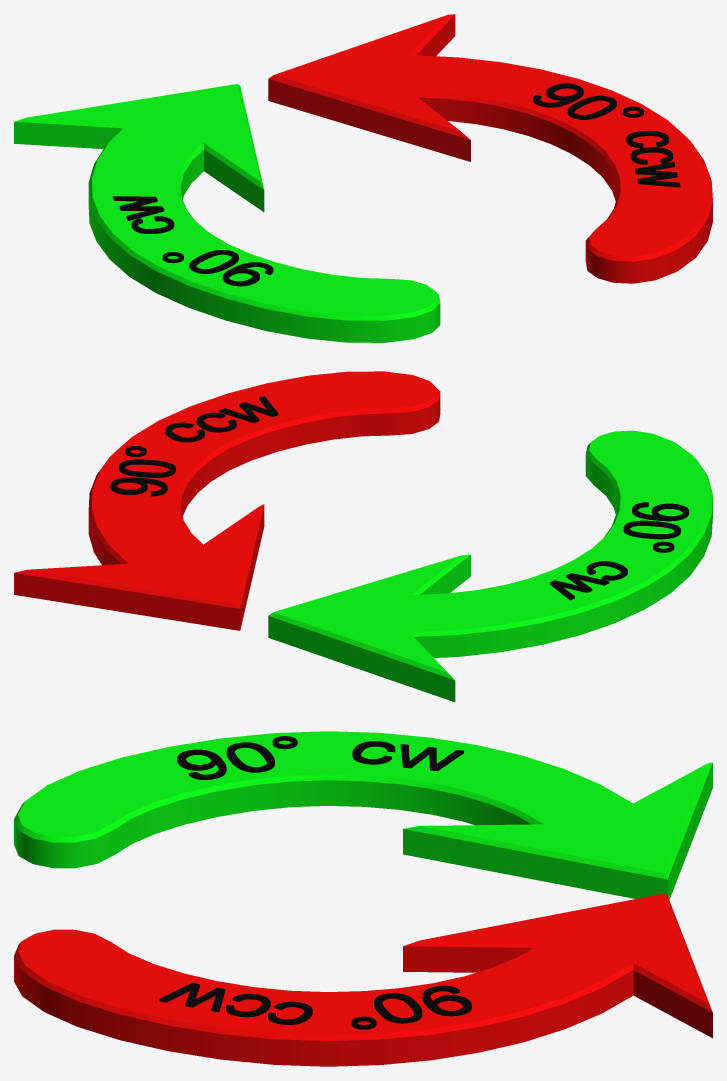
File: degreeArrows.fbx
3 renders of one model, top to bottom at view 1: azimuth 30°, elevation 25°; view 2: azimuth 150°, elevation 25°; view 3: azimuth 270°, elevation 25°, orthographic. The views are drawn at different scales.
Parts seen in each view (by area): view 1: -091, -90, Text005, Text004, Text001, Text003; view 2: -091, -90, Text004, Text001, Text005, Text003; view 3: -091, -90, Text005, Text004, Text001, Text003.
Part boxes in pixels (x1,y1,x2,y2): -091: (14,84,440,342); -90: (268,14,712,283); Text005: (626,130,680,187); Text004: (533,83,643,119); Text001: (162,250,273,286); Text003: (113,196,174,233); -091: (268,430,712,702); -90: (14,371,440,630); Text004: (110,446,175,496); Text001: (623,502,689,552); Text005: (165,396,278,442); Text003: (550,561,627,600); -091: (14,731,712,899); -90: (14,893,712,1066); Text005: (159,983,312,1024); Text004: (351,985,471,1029); Text001: (177,736,297,779); Text003: (352,741,463,771).
Bounding box in the file's own units: 53.68 × 51.61 × 2.65.
